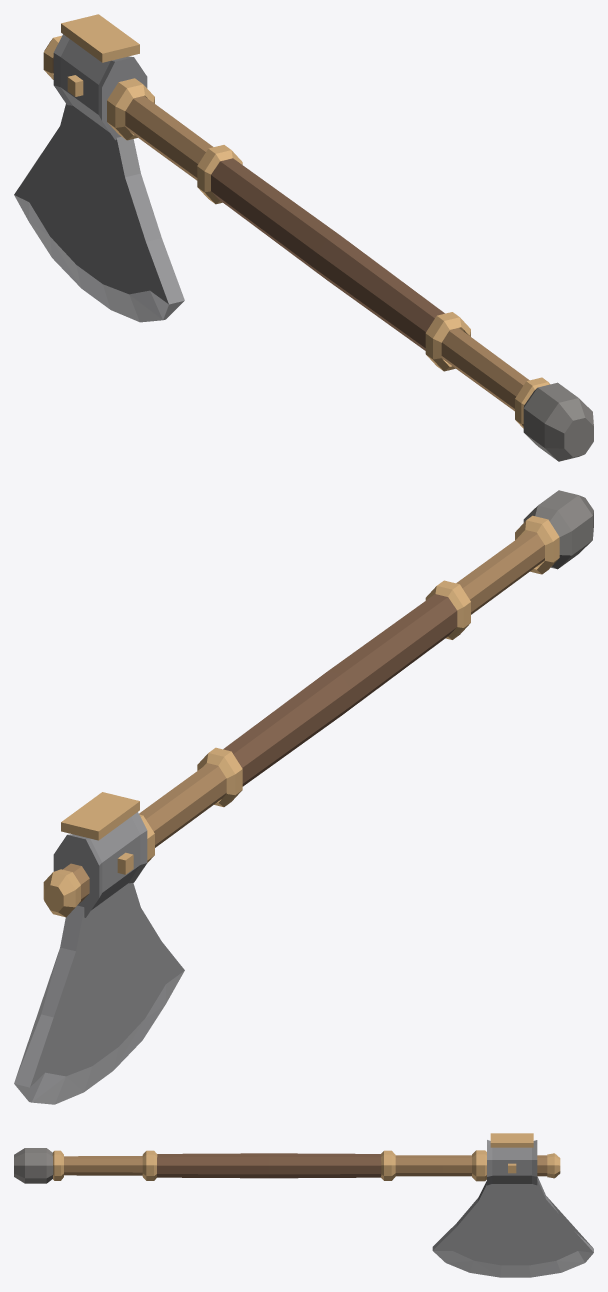
Rendered from held-axe.glb.
3 renders of one model, top to bottom at view 1: azimuth 30°, elevation 25°; view 2: azimuth 150°, elevation 25°; view 3: azimuth 270°, elevation 25°, orthographic. The views are drawn at different scales.
Visible parts, largest first — view 1: blade, grip_wrap, haft, pommel, head_socket, poll_cap, head_collar, band_grip_low, band_grip_high, pommel_collar; view 2: blade, grip_wrap, haft, head_socket, pommel, poll_cap, haft_cap, band_grip_high, pommel_collar, band_grip_low; view 3: blade, grip_wrap, haft, head_socket, pommel, poll_cap, head_collar, band_grip_high, band_grip_low, pommel_collar, haft_cap.
Boxes of the visible parts, x1=… form: blade: x1=14, y1=104, x2=184, y2=322; grip_wrap: x1=211, y1=158, x2=444, y2=350; haft: x1=52, y1=57, x2=529, y2=411; pommel: x1=523, y1=382, x2=593, y2=461; head_socket: x1=53, y1=34, x2=147, y2=140; poll_cap: x1=61, y1=14, x2=139, y2=62; head_collar: x1=107, y1=78, x2=154, y2=140; band_grip_low: x1=425, y1=312, x2=470, y2=371; band_grip_high: x1=197, y1=145, x2=242, y2=204; pommel_collar: x1=515, y1=377, x2=550, y2=428; blade: x1=14, y1=883, x2=184, y2=1104; grip_wrap: x1=223, y1=594, x2=457, y2=786; haft: x1=63, y1=530, x2=544, y2=903; head_socket: x1=53, y1=812, x2=147, y2=917; pommel: x1=523, y1=490, x2=593, y2=569; poll_cap: x1=61, y1=792, x2=139, y2=840; haft_cap: x1=43, y1=869, x2=80, y2=917; band_grip_high: x1=197, y1=747, x2=242, y2=807; pommel_collar: x1=515, y1=515, x2=559, y2=574; band_grip_low: x1=425, y1=580, x2=470, y2=639; blade: x1=432, y1=1176, x2=593, y2=1277; grip_wrap: x1=157, y1=1153, x2=381, y2=1178; haft: x1=64, y1=1155, x2=547, y2=1176; head_socket: x1=487, y1=1140, x2=537, y2=1185; pommel: x1=14, y1=1148, x2=53, y2=1183; poll_cap: x1=490, y1=1133, x2=533, y2=1147; head_collar: x1=472, y1=1150, x2=486, y2=1181; band_grip_high: x1=381, y1=1150, x2=395, y2=1180; band_grip_low: x1=142, y1=1150, x2=157, y2=1180; pommel_collar: x1=52, y1=1150, x2=63, y2=1180; haft_cap: x1=547, y1=1153, x2=560, y2=1178.
Size of what is drawn, in the model's own units: 0.08 by 0.352 by 1.33.
